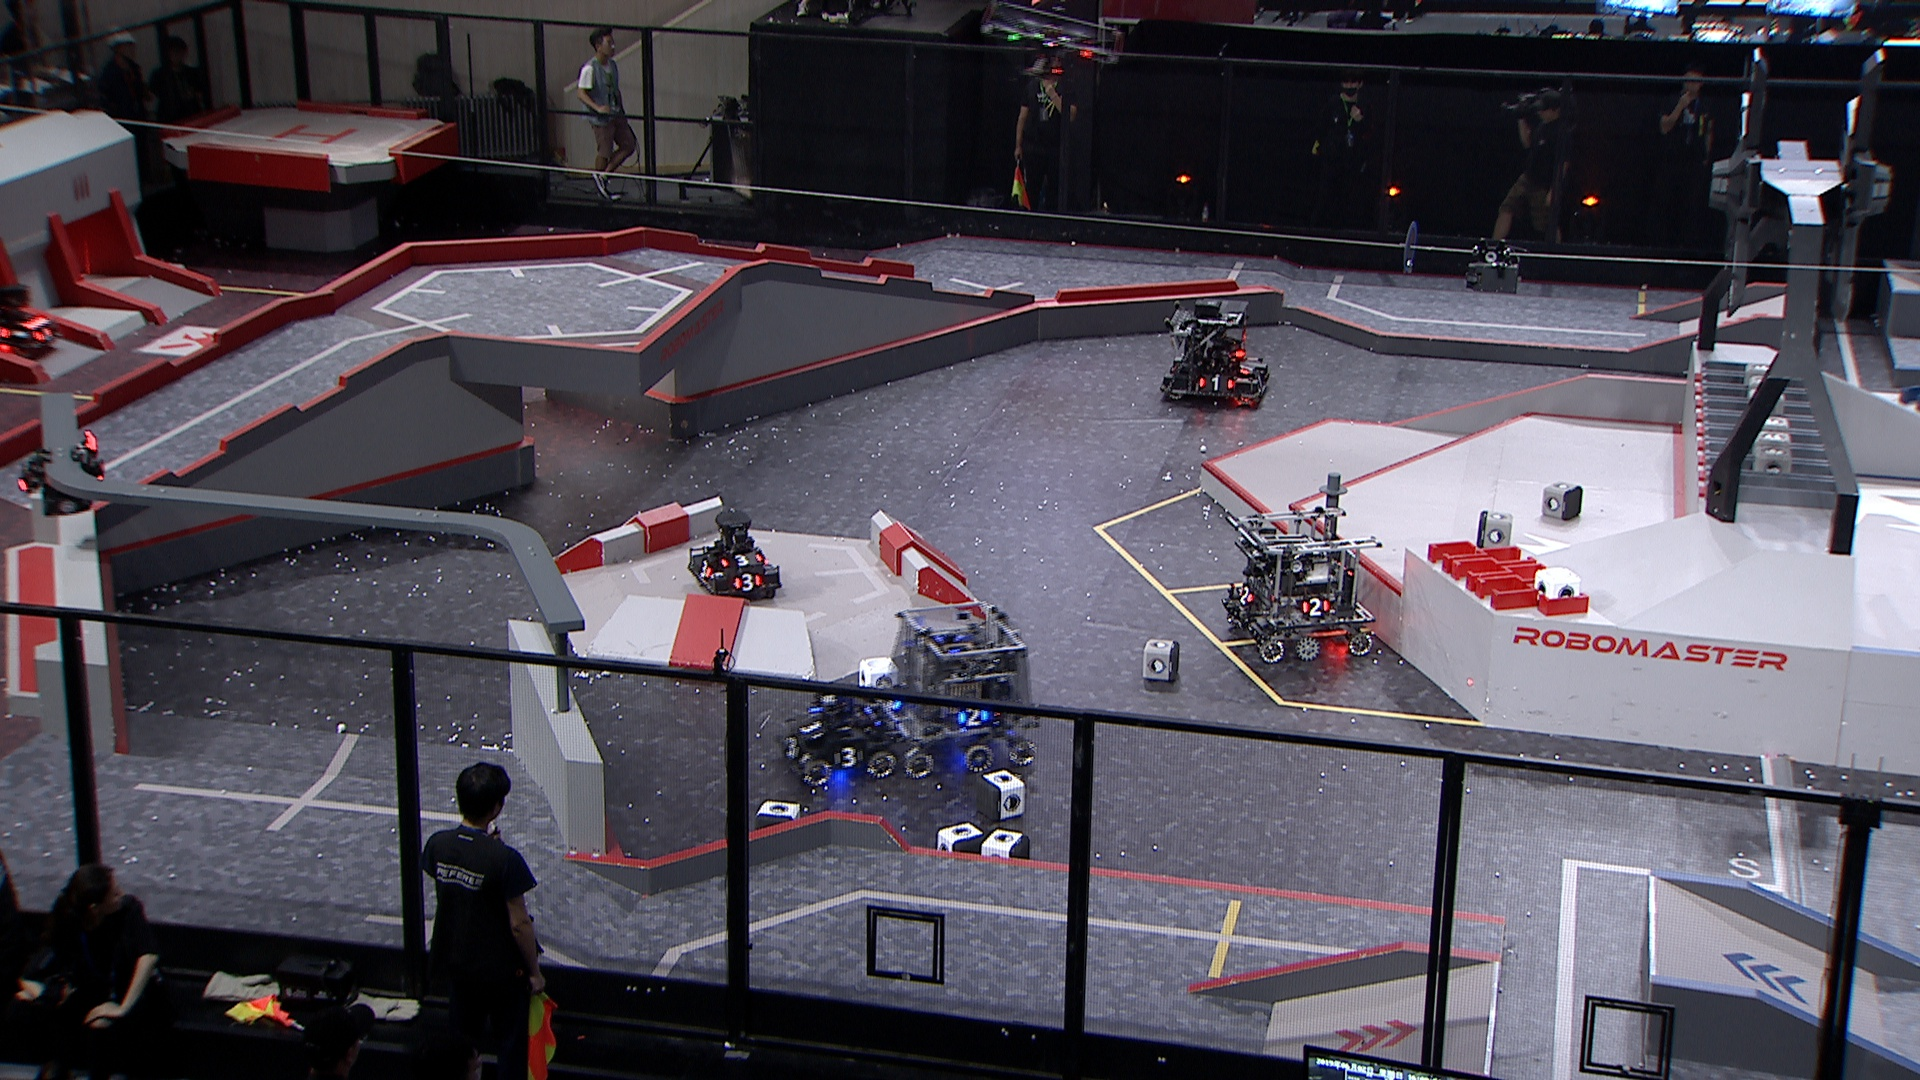armor: (955, 704, 988, 731), (1197, 373, 1237, 394), (832, 746, 862, 771), (1302, 597, 1333, 618), (719, 551, 761, 566), (795, 719, 822, 740), (782, 732, 800, 761), (733, 572, 761, 591), (30, 324, 55, 343), (1236, 584, 1255, 607), (1236, 363, 1257, 377), (698, 560, 712, 580), (1254, 371, 1266, 389)
car: (877, 599, 1038, 779), (1218, 501, 1379, 665), (771, 687, 898, 787), (1158, 299, 1271, 409), (684, 509, 785, 600)
watcher: (16, 431, 109, 518)
